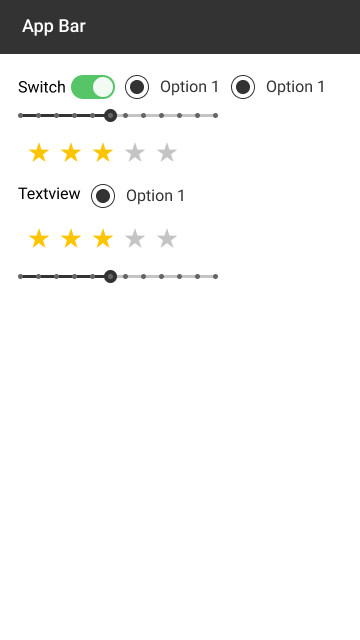radioButton: (88, 183, 188, 207), (125, 74, 220, 99), (232, 75, 324, 100)
ratingBar: (26, 226, 178, 252), (28, 143, 182, 162)
slider: (12, 269, 220, 284), (17, 109, 221, 122)
switch: (18, 75, 117, 99)
textView: (15, 183, 82, 204)
toolbar: (1, 1, 359, 56)
